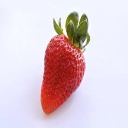strawberry: (40, 17, 87, 115)
